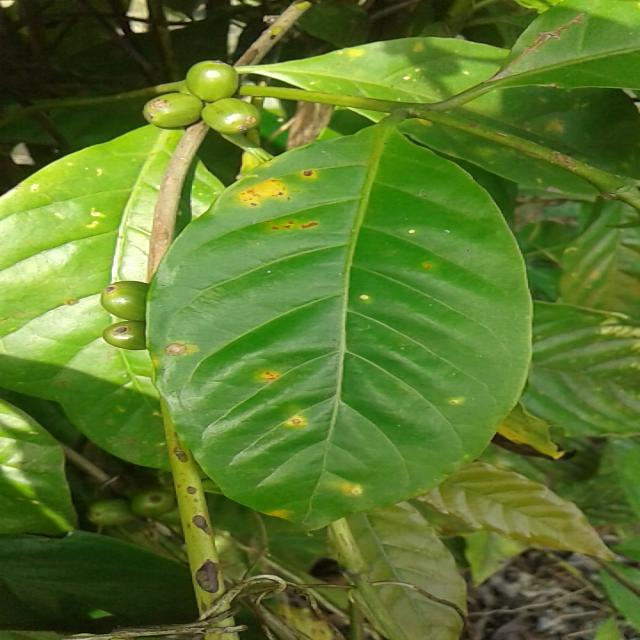Enfermedad-Roya: (148, 129, 534, 534)
